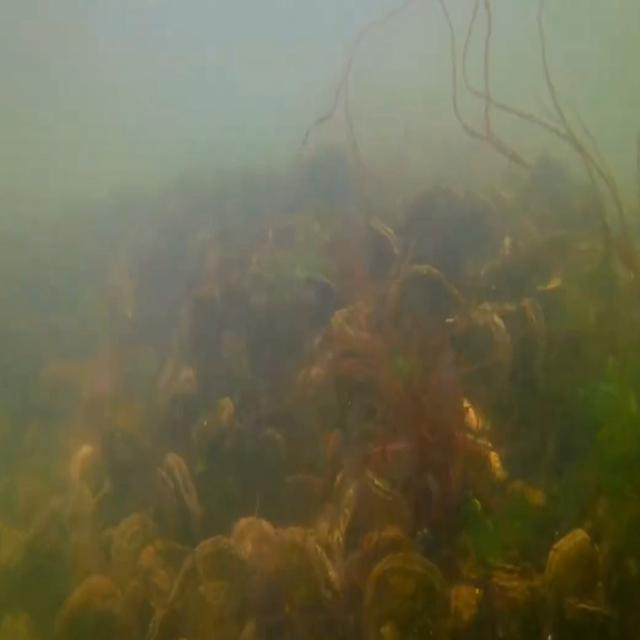Oyster-Closed: (544, 526, 604, 640), (365, 213, 403, 294)
Oyster-Indeterminate: (234, 514, 344, 640), (169, 535, 259, 640), (356, 547, 456, 640), (108, 514, 171, 640), (382, 264, 470, 342), (438, 306, 512, 386), (55, 579, 140, 640), (478, 300, 548, 370), (454, 428, 512, 483), (188, 398, 236, 449), (458, 392, 503, 431)
Oyster-Open: (149, 452, 202, 568), (329, 457, 360, 554), (363, 465, 408, 507)
